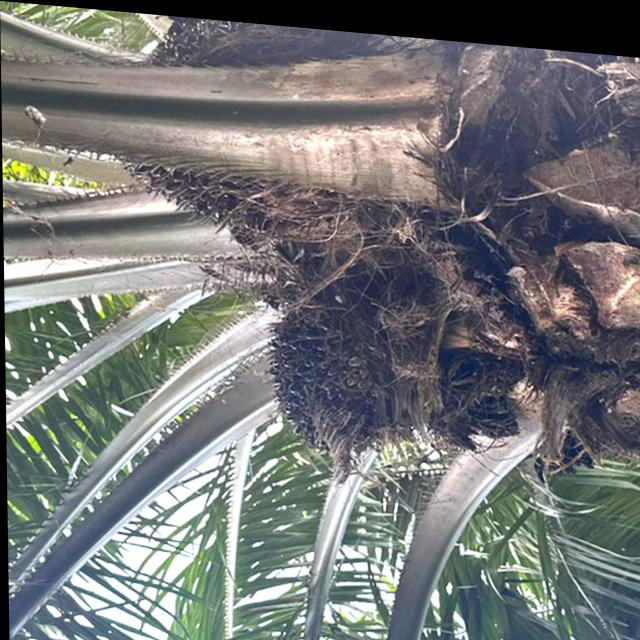unripe: (100, 7, 331, 243), (257, 269, 384, 452)
